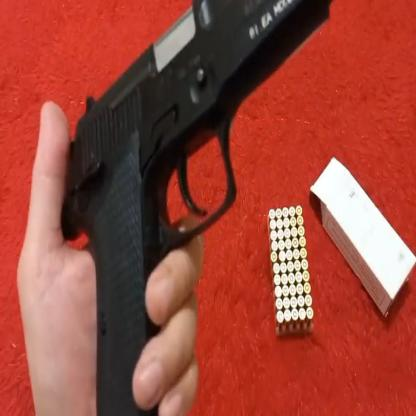handgun: (63, 0, 328, 414)
